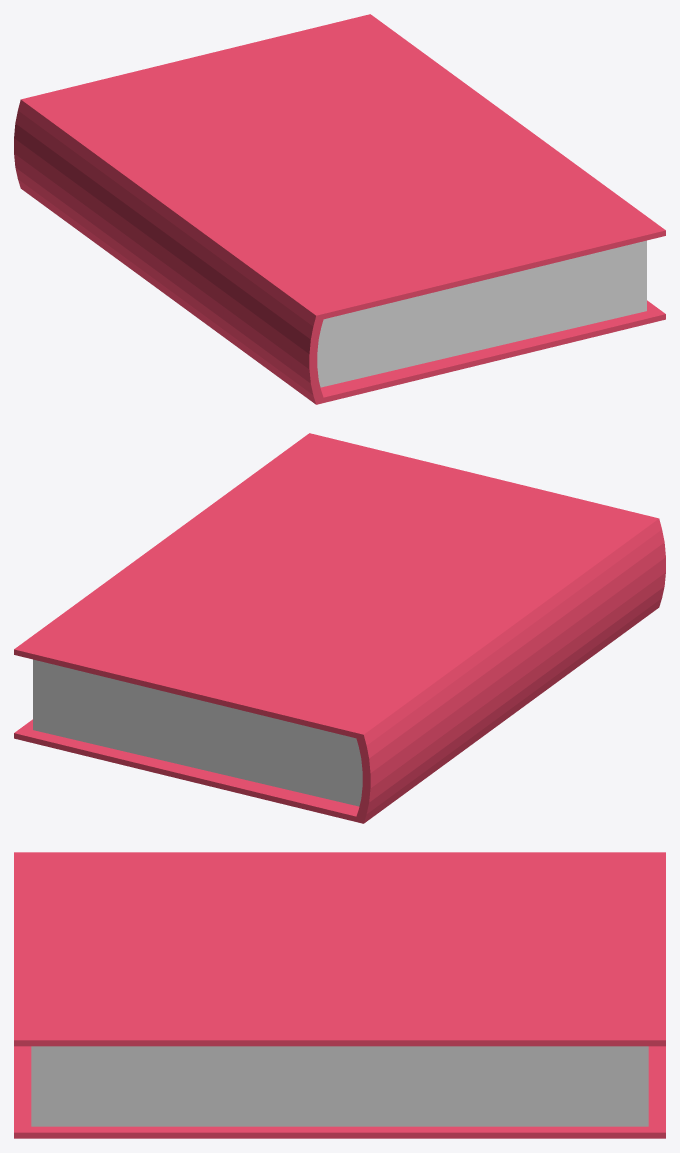
File: Book.fbx
3 views of the same model, one above another, from view 1: azimuth 30°, elevation 25°; view 2: azimuth 150°, elevation 25°; view 3: azimuth 270°, elevation 25° (orthographic). The views are drawn at different scales.
Parts seen in each view (by area): view 1: Cube; view 2: Cube; view 3: Cube.
Part boxes in pixels (<box>): Cube: <box>14,14,665,404</box>; Cube: <box>14,433,665,823</box>; Cube: <box>14,852,665,1138</box>.
Size of the model in its own units: 139 by 33.29 by 200.
